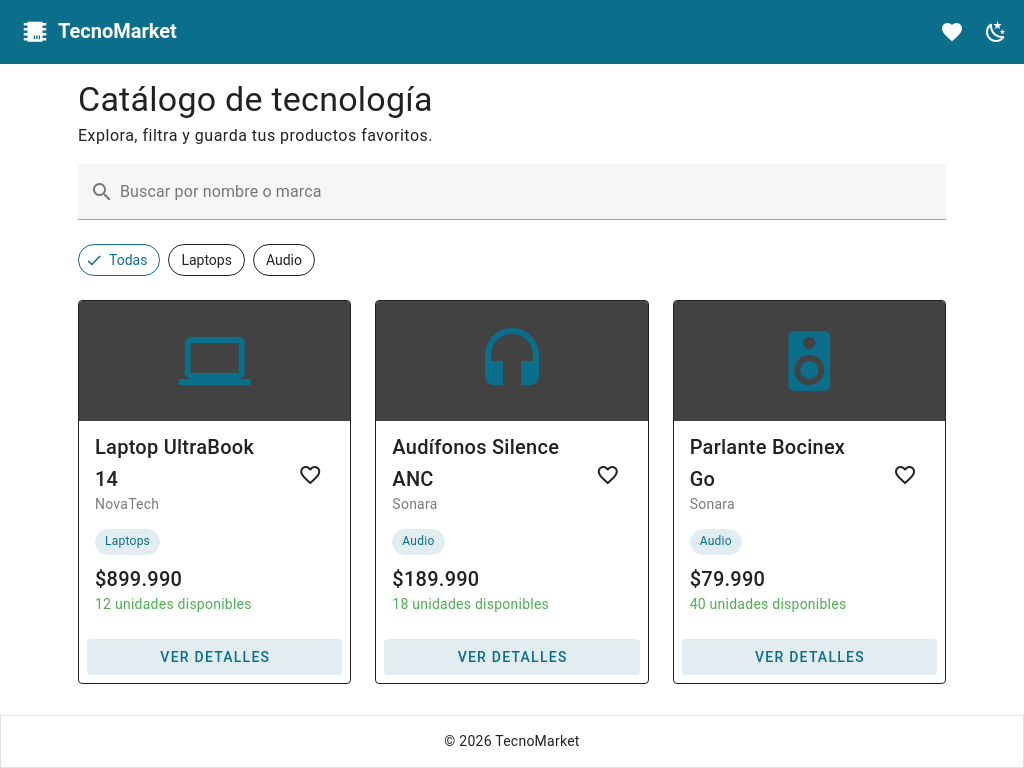
Test: Filtro de productos › el usuario filtra por categoría y ve solo los resultados correspondientes
Expected: the number of elements with test id "tarjeta-producto" is 3, [78,300,351,684]; [375,300,649,684]; [673,300,946,684]
Click the text "Audio" in the row of "Todas": (284, 260) [266,249,302,270]
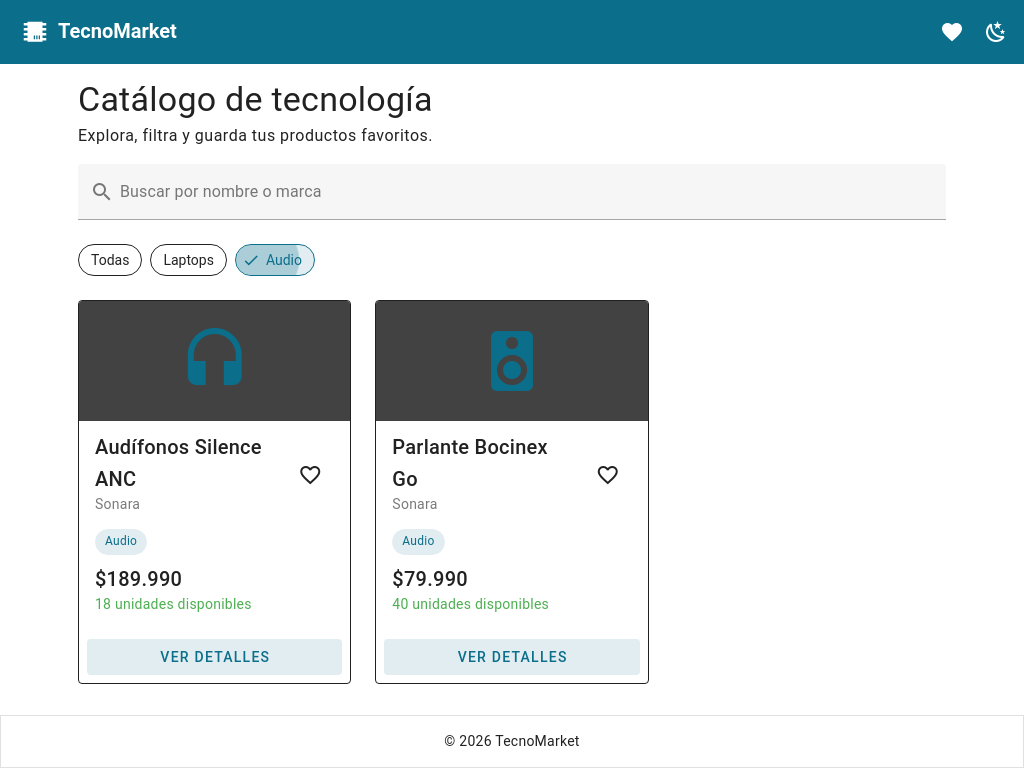
Expected: the text "Audífonos Silence ANC" is shown, [95,431,278,495]
Now the number of elements with test id "tarjeta-producto" is 2, box [78,300,351,684]; [375,300,649,684]
Now the text "Laptop UltraBook 14" is gone
